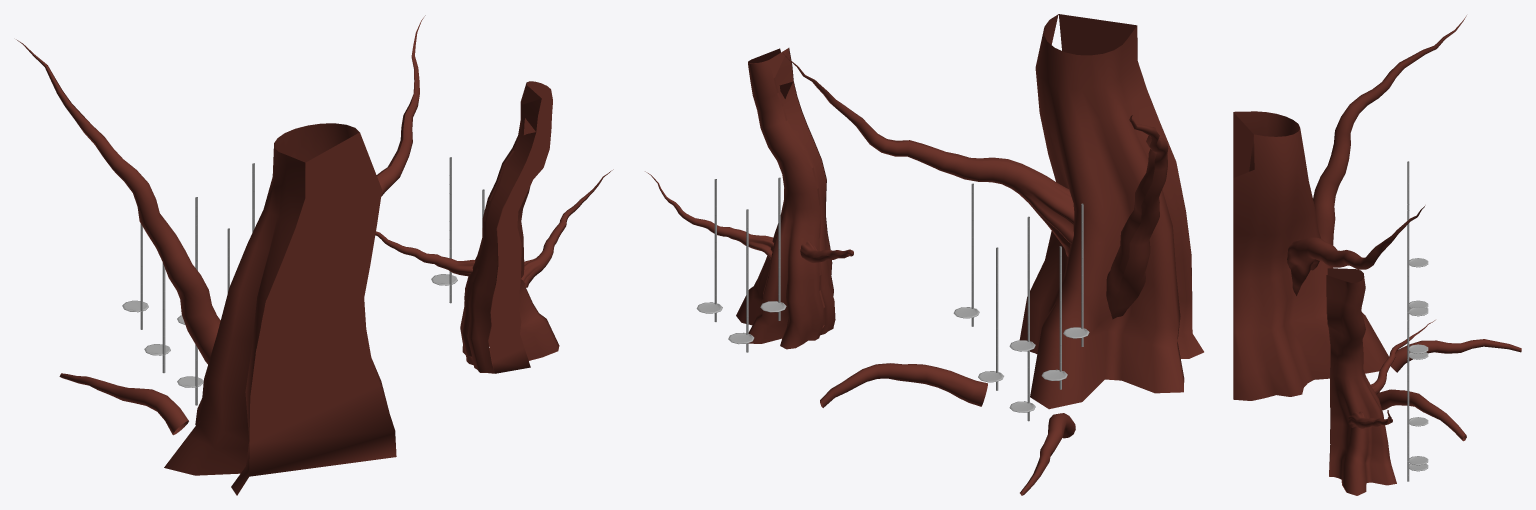
The model's file is HeroTrees.fbx.
The picture shows the model from 3 angles, left to right: view 1: azimuth 30°, elevation 25°; view 2: azimuth 150°, elevation 25°; view 3: azimuth 270°, elevation 25°; orthographic projection. The views are drawn at different scales.
Visible parts, largest first — view 1: polySurface60, polySurface59, polySurface61, polySurface62, polySurface1, polySurface58, polySurface4, polySurface55, polySurface56, pasted__pasted__pCylinder62; view 2: polySurface59, polySurface61, polySurface4, polySurface1, polySurface57, polySurface60, polySurface58, polySurface55, pasted__pasted__pCylinder63, pasted__pasted__pCylinder57, pasted__pasted__pCylinder65, pasted__pasted__pCylinder59 (+6 smaller); view 3: polySurface59, polySurface61, polySurface1, polySurface4, polySurface57, polySurface58, polySurface60, polySurface62, polySurface56, pasted__pasted__pCylinder59, polySurface55, pasted__pasted__pCylinder63.
Boxes of the visible parts, left/top/right/bottom form: polySurface60: left=198, top=132, right=396, bottom=495; polySurface59: left=164, top=123, right=388, bottom=495; polySurface61: left=460, top=81, right=558, bottom=373; polySurface62: left=472, top=81, right=559, bottom=373; polySurface1: left=16, top=39, right=256, bottom=364; polySurface58: left=59, top=373, right=188, bottom=435; polySurface4: left=261, top=15, right=425, bottom=323; polySurface55: left=521, top=169, right=613, bottom=287; polySurface56: left=375, top=231, right=475, bottom=276; pasted__pasted__pCylinder62: left=144, top=263, right=170, bottom=373; polySurface59: left=1019, top=14, right=1203, bottom=409; polySurface61: left=736, top=48, right=835, bottom=349; polySurface4: left=783, top=53, right=1074, bottom=256; polySurface1: left=1106, top=115, right=1168, bottom=319; polySurface57: left=820, top=363, right=987, bottom=407; polySurface60: left=1058, top=14, right=1203, bottom=382; polySurface58: left=1020, top=413, right=1075, bottom=495; polySurface55: left=645, top=171, right=773, bottom=259; pasted__pasted__pCylinder63: left=953, top=183, right=979, bottom=326; pasted__pasted__pCylinder57: left=760, top=177, right=786, bottom=320; pasted__pasted__pCylinder65: left=1063, top=203, right=1089, bottom=346; pasted__pasted__pCylinder59: left=696, top=179, right=722, bottom=322; polySurface59: left=1233, top=111, right=1388, bottom=400; polySurface61: left=1327, top=268, right=1396, bottom=495; polySurface1: left=1313, top=15, right=1466, bottom=245; polySurface4: left=1287, top=205, right=1425, bottom=295; polySurface57: left=1376, top=389, right=1466, bottom=441; polySurface58: left=1391, top=339, right=1521, bottom=372; polySurface60: left=1233, top=112, right=1253, bottom=177; polySurface62: left=1326, top=268, right=1385, bottom=495; polySurface56: left=1371, top=320, right=1435, bottom=394; pasted__pasted__pCylinder59: left=1407, top=359, right=1428, bottom=475; polySurface55: left=1348, top=410, right=1392, bottom=428; pasted__pasted__pCylinder63: left=1407, top=210, right=1428, bottom=320.
Bounding box in the file's own units: 90.92 × 61.81 × 51.72.
